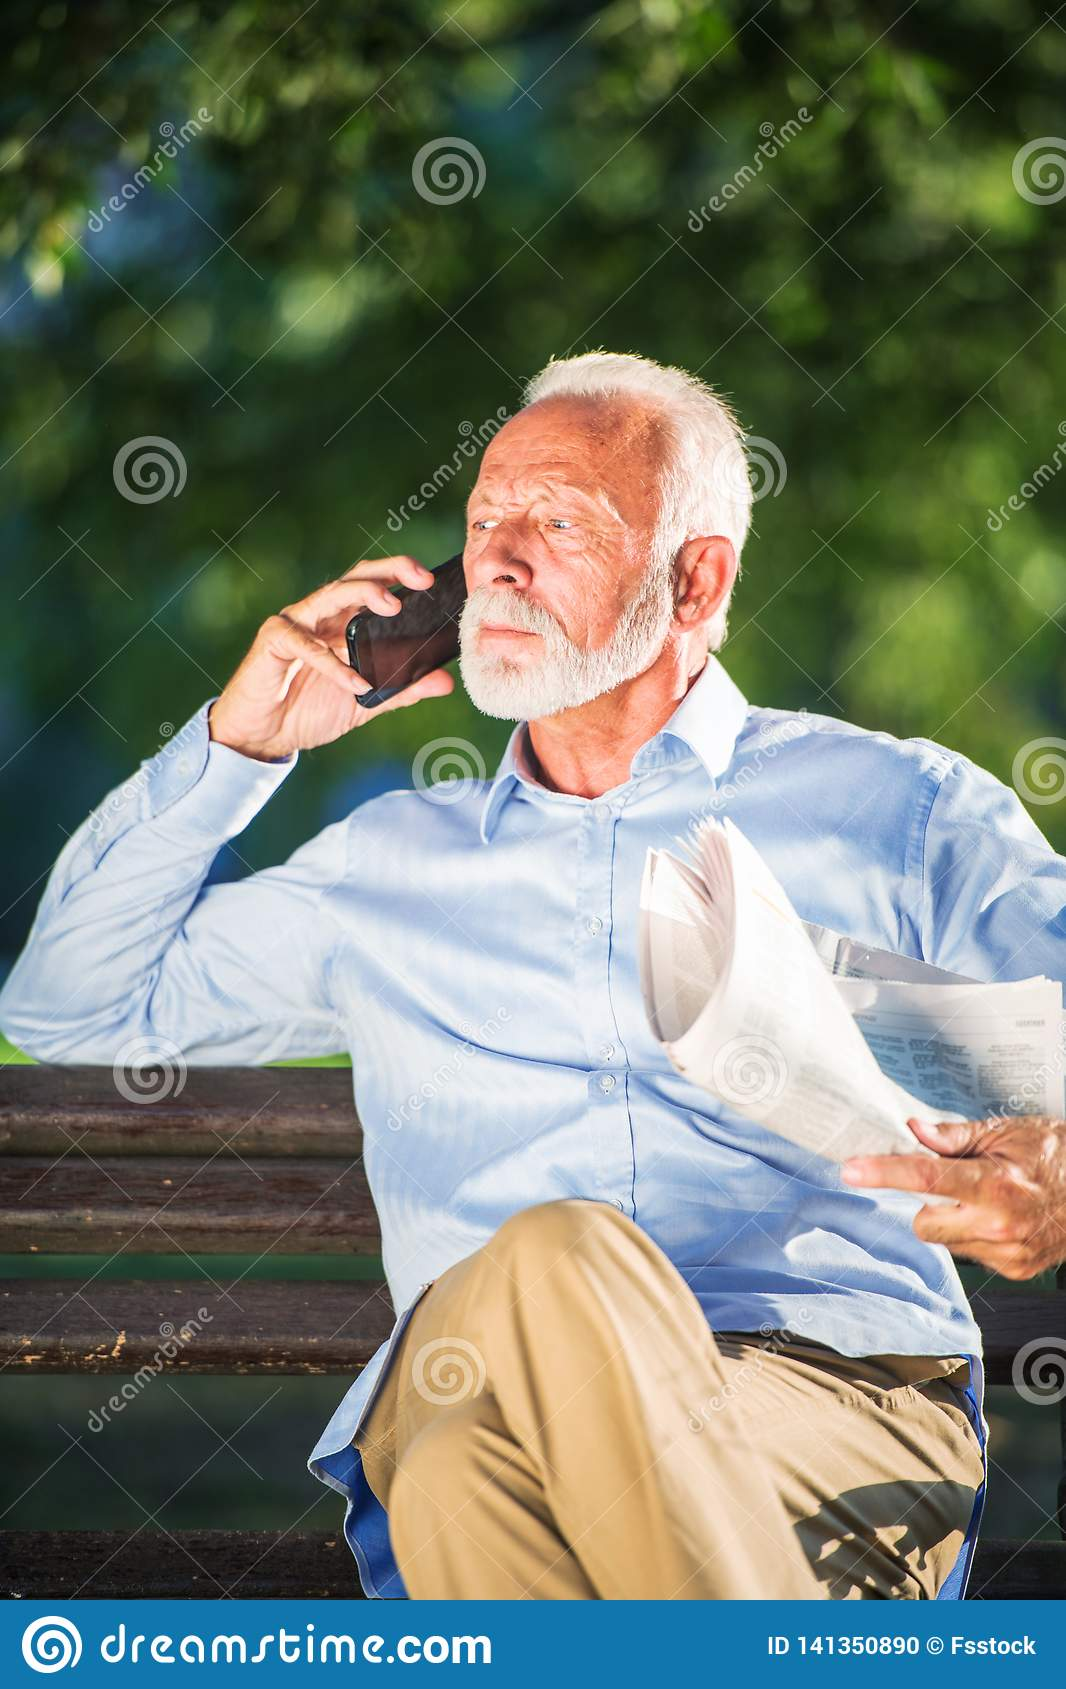phone: (348, 547, 472, 716)
talk: (215, 458, 632, 779)
